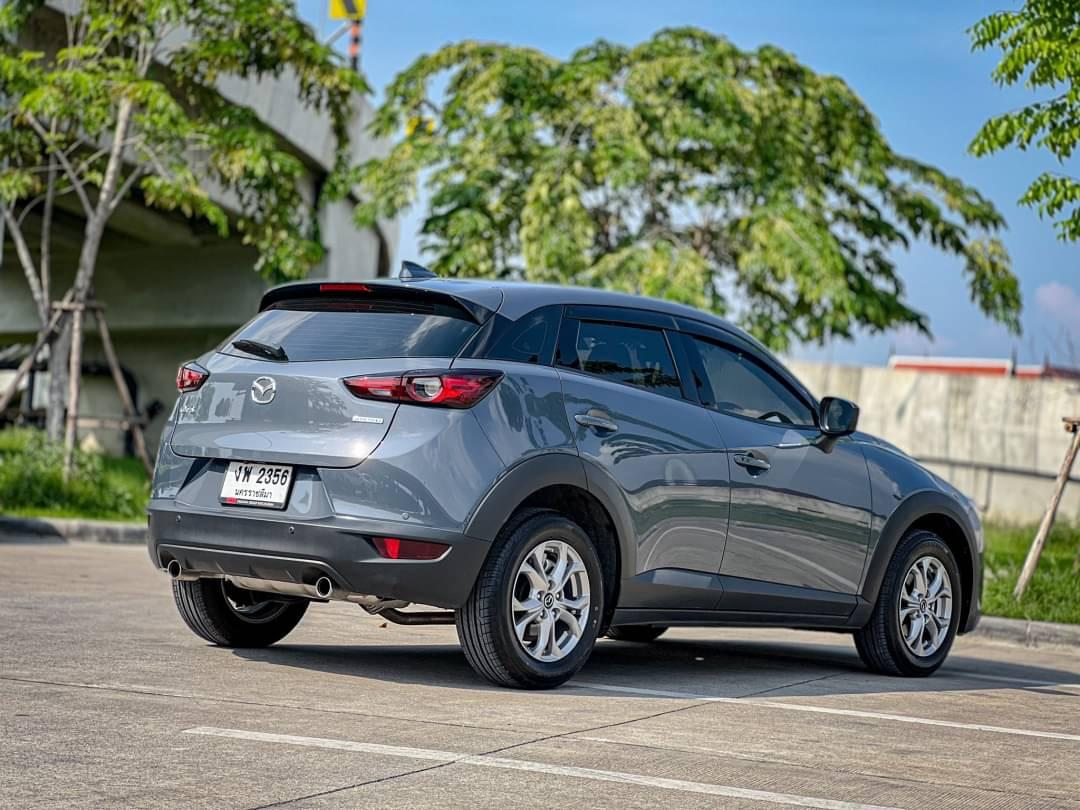license-plate: (222, 459, 293, 508)
